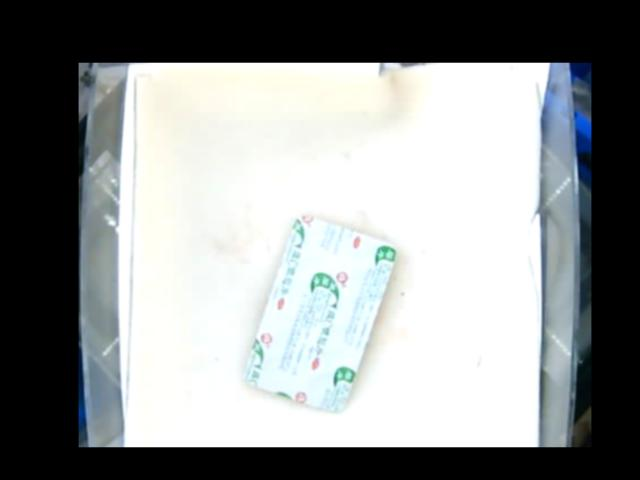Medicine: (249, 214, 391, 412)
